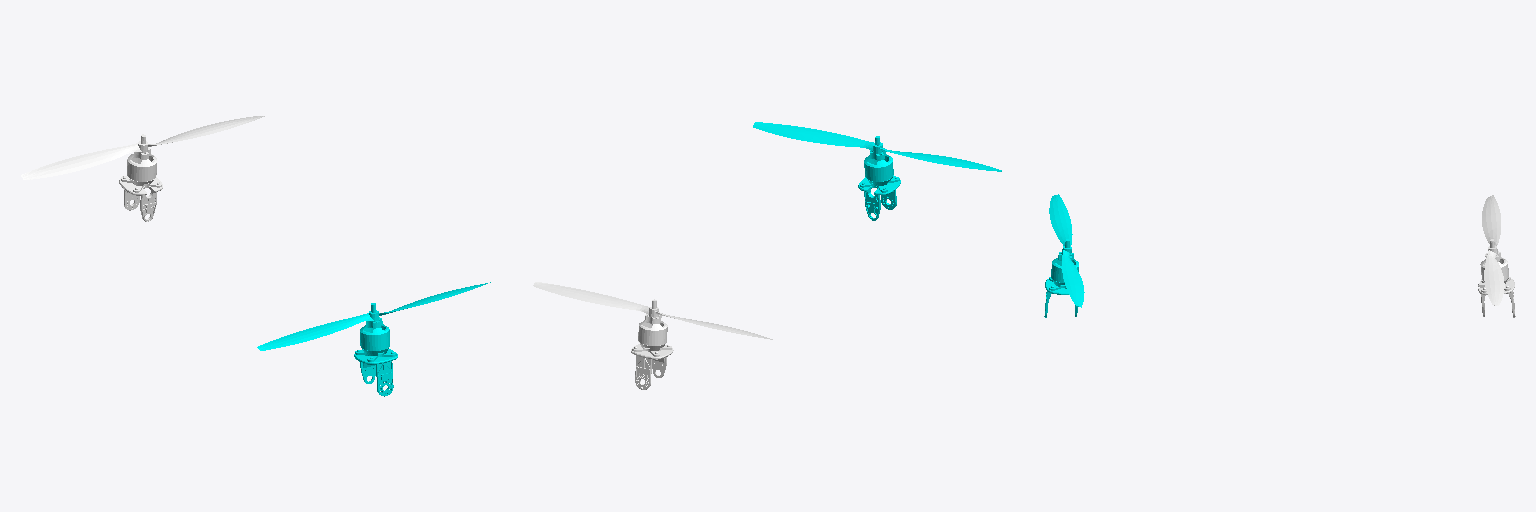
robot.urdf — vant2:
<?xml version="1.0" encoding="UTF-8"?>
<!--
This file is part of the ProVANT simulator project.
Licensed under the terms of the MIT open source license. More details at
https: //github.com/Guiraffo/ProVANT-Simulator/blob/master/LICENSE.md
-->
<!-- 
PROVANT 2.0 
Autor: Arthur Viana Lara
Data: 24/05/2016
Descrição: Descrição cinemática do modelo de simulação ProVant 2.0

Possui 3 links ligados a duas juntas
Nesse modelo não considera-se o giro dos motores brushless por motivo de agilizar a simulação
O modelo de solisão considerao Um cubo de lados com tamanho 0.5 m (Para tirar o peso da engine ao verificar colisões)

Exportou-se 3 corpos de forma separada:
	1- corpo principal (em relação ao centro geométrico)
	2- brushless direito (em relação ao eixo de rotação)
	3- brushless esquerdo (em relação ao eixo de rotação)

Campos Inertial descrevem dados do eixo de coordenadas encontrados no centro de massa em relação  eixo de coordenadas global escolhido durante a exportação

Campos Visual descrevem dados de visualização dos corpos na simulação

Campo Collision descreve como será tratado a colisão


Bibliotecas dinâmicas:

Vetor de Estados
Servo motores direito e esquerdo

-->
<robot name="vant2">

	<link name="corpo">
		<inertial>
			<origin xyz="-0.00254692194194197639 0.000137734082827298 -0.0181900814143879" rpy="0 0 0" />
			<mass value="1.92509767079622" />
			<inertia ixx="0.0697552757250878" ixy="4.77417385357503E-05" ixz="0.000362780890165671" iyy="0.00792827006001647" iyz="-1.07360516340487E-05" izz="0.0664000187819483" />
		</inertial>
		<visual>
			<origin xyz="0 0 0" rpy="0 0 0" />
			<geometry>
				<mesh filename="package://vant2/meshes/corpo.STL" />
			</geometry>
			<material name="">
				<color rgba="1 1 1 1" />
			</material>
		</visual>
		<collision>
			<origin xyz="0 0 0" rpy="0 0 0" />
			<geometry>
				<box size="0.5 0.5 0.5" />
			</geometry>
		</collision>
	</link>

	<link name="servodir">
		<inertial>
			<!--<origin xyz="-3.60859273452335E-10  -0.000226380714807978 0.0594780519701684" 
				rpy="0 0 0"/>-->
			<!--<origin xyz="0 0 0" 
				rpy="0 0 0"/>-->
			<mass value="0.0809439719362664" />
			<inertia ixx="3.88267747087835E-06" ixy="6.03219085082653E-06" ixz="-2.78471406661236E-12" iyy="0.000104858690365283" iyz="7.0486590219062E-07" izz="8.31755564684115E-05" />
		</inertial>
		<visual>
			<origin xyz="0 0 0" rpy="0 0 0" />
			<geometry>
				<mesh filename="package://vant2/meshes/servodir.STL" />
			</geometry>
			<material name="">
				<color rgba="0 1 1 1" />
			</material>
		</visual>
	</link>

	<link name="servoesq">
		<inertial>
			<origin xyz="-1.42036961055594E-09 0.000226379941183831 0.059478050752241" rpy="0 0 0" />
			<!--<origin xyz="0 0 0" 
				rpy="0 0 0"/>-->
			<mass value="0.080943968597" />
			<inertia ixx="3.83153585987037E-05" ixy="1.31505388597772E-06" ixz="5.68869331986483E-13" iyy="0.000105370094312002" iyz="-7.048667055410379E-07" izz="8.31755504678384E-05" />
		</inertial>
		<visual>
			<origin xyz="0 0 0" rpy="0 0 0" />
			<geometry>
				<mesh filename="package://vant2/meshes/servoesq.STL" />
			</geometry>
			<material name="">
				<color rgba="1 1 1 1" />
			</material>
		</visual>
	</link>
	<!-- Juntas -->
	<joint name="aR" type="revolute">
		<origin xyz="0.02E-3 -277.61E-3 56.21E-3" rpy="-0.0872665 0 0" />
		<parent link="corpo" />
		<child link="servodir" />
		<axis xyz="0 1 0" />
		<limit lower="-1.5" upper="1.5" effort="200" velocity="100" />

	</joint>
	<joint name="aL" type="revolute">
		<origin xyz="0.02E-3 277.61E-3 56.21E-3" rpy="0.0872665 0 0" />
		<parent link="corpo" />
		<child link="servoesq" />
		<axis xyz="0 1 0" />
		<limit lower="-1.5" upper="1.5" effort="2" velocity="0.5" />

	</joint>

	<!-- Atuadores -->
	<gazebo>
		<plugin name="aLteste" filename="libservo_motor_plugin.so">
			<NameOfJoint> aL </NameOfJoint>
			<TopicSubscriber> RefaL </TopicSubscriber>
			<TopicPublisher>  SensoraL </TopicPublisher>
			<Modo> Torque </Modo>
		</plugin>
	</gazebo>

	<gazebo>
		<plugin name="aRteste" filename="libservo_motor_plugin.so">
			<NameOfNode> Tilt </NameOfNode>
			<NameOfJoint> aR </NameOfJoint>
			<TopicSubscriber> RefaR </TopicSubscriber>
			<TopicPublisher>  SensoraR </TopicPublisher>
			<Modo> Torque </Modo>
		</plugin>
	</gazebo>

	<!-- sensores -->
	<gazebo>
		<plugin name="VetorEstados" filename="libAllData_plugin.so">
			<NameOfNode> Estados </NameOfNode>
			<NameOfJointR> aR </NameOfJointR>
			<NameOfJointL> aL </NameOfJointL>
			<bodyName> corpo </bodyName>
		</plugin>
	</gazebo>

	<!-- Simulação de Empuxo -->
	<gazebo>
		<plugin name="empuxo" filename="libaerodinamica_plugin.so">
			<topic_FR> Thrustdir </topic_FR>
			<topic_FL> Thrustesq </topic_FL>
			<LinkDir> servodir </LinkDir>
			<LinkEsq> servoesq </LinkEsq>
		</plugin>
	</gazebo>
</robot>

--- What the picture shows (computed from the rendered views, not written in the file) ---
3 views of the same robot in one strip: view 1: azimuth 30°, elevation 25°; view 2: azimuth 150°, elevation 25°; view 3: azimuth 270°, elevation 25° (orthographic).
Robot: vant2 — 3 links, 2 joints (2 revolute); root link corpo; default pose: every joint at zero.
Visible links, largest first — view 1: servoesq, servodir; view 2: servodir, servoesq; view 3: servodir, servoesq.
Link boxes in pixels (x1,y1,x2,y2): servoesq: [21, 116, 264, 221]; servodir: [257, 282, 490, 396]; servodir: [753, 122, 1001, 220]; servoesq: [533, 282, 772, 389]; servodir: [1044, 194, 1084, 317]; servoesq: [1478, 195, 1515, 317].
Size in the robot's own frame: 0.3303 by 0.5978 by 0.1078 metres.
Meshes: 3 distinct files referenced, 2 mesh visuals loaded (2 binary STL); not drawn: 1 (reference not matched to a file when rendering).
